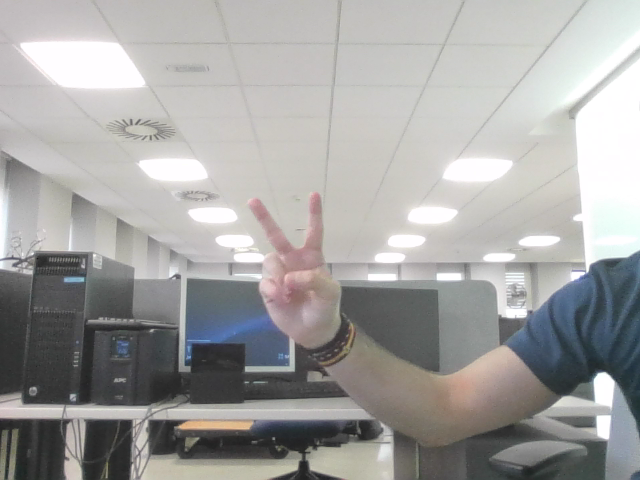2Dedos: (257, 202, 324, 307)
